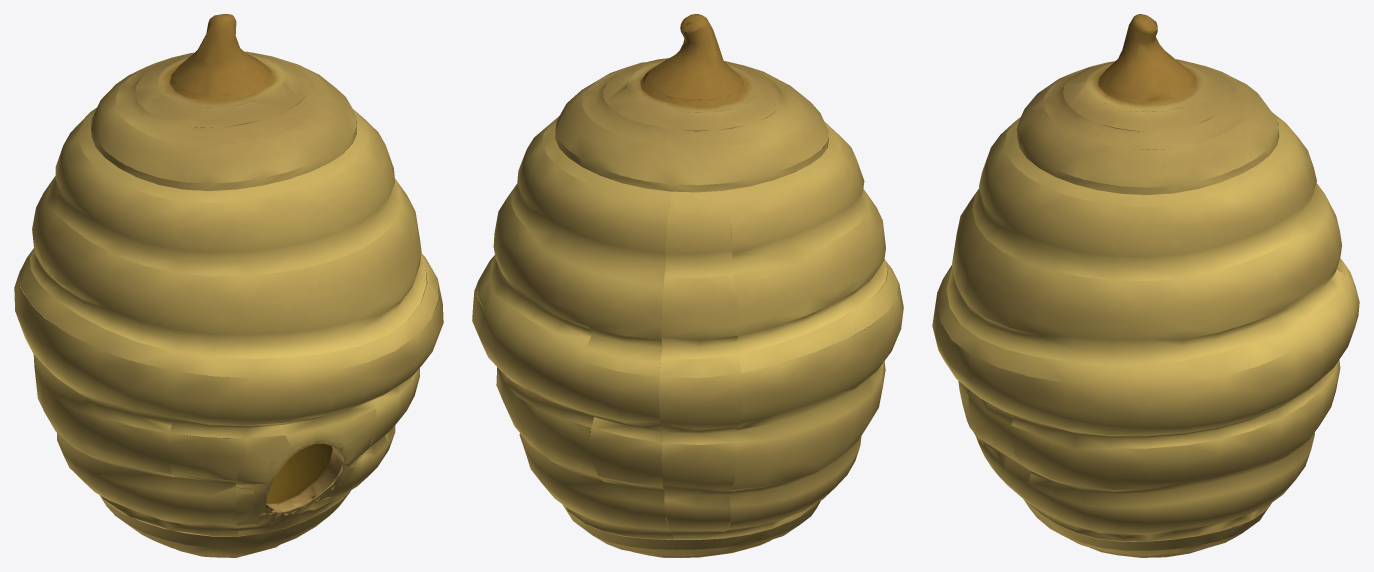
Rendered from beehive f.fbx.
The picture shows the model from 3 angles, left to right: view 1: azimuth 30°, elevation 25°; view 2: azimuth 150°, elevation 25°; view 3: azimuth 270°, elevation 25°; orthographic projection.
Visible parts, largest first — view 1: Beehive-material; view 2: Beehive-material; view 3: Beehive-material.
Part boxes in pixels (x1,y1,x2,y2): Beehive-material: [14, 14, 443, 557]; Beehive-material: [472, 14, 903, 557]; Beehive-material: [932, 14, 1359, 557].
Size of the model in its own units: 227 by 306 by 225.
Materials: 1 (1 with a texture image).
